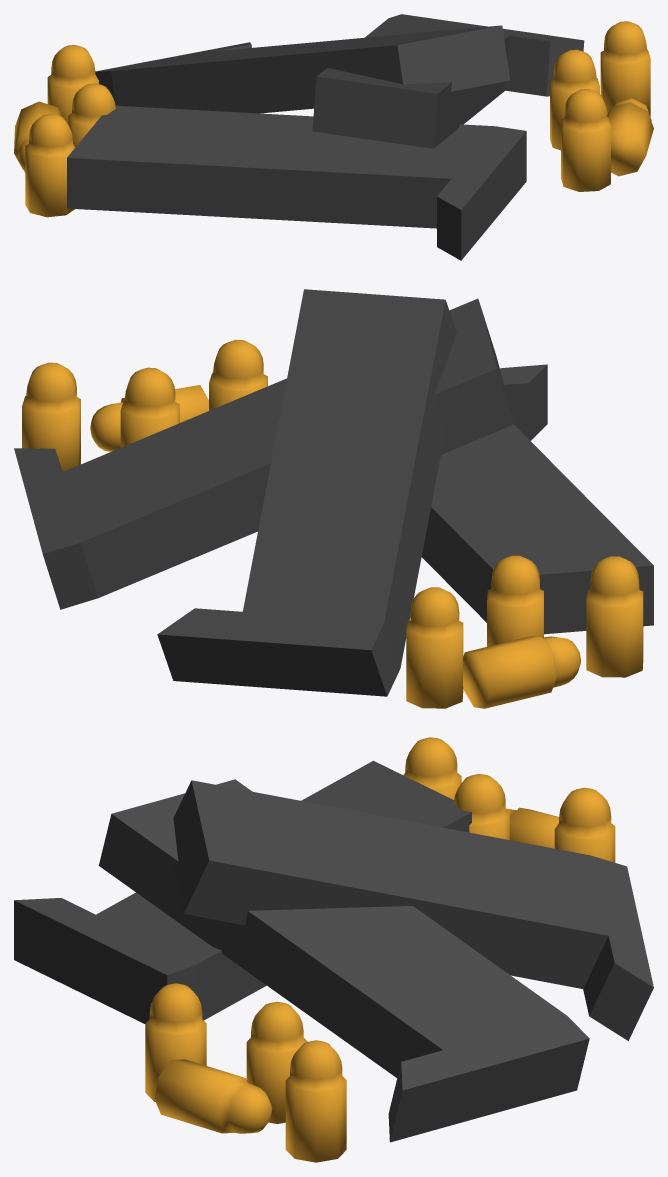
The model's file is PistolAmmo.fbx.
The picture shows the model from 3 angles, top to bottom: view 1: azimuth 30°, elevation 25°; view 2: azimuth 150°, elevation 25°; view 3: azimuth 270°, elevation 25°; orthographic projection. The views are drawn at different scales.
Visible parts, largest first — view 1: Cube.050, Cube.049, Cube.051, Cylinder.091, Cylinder.096, Cylinder.092, Cylinder.093, Cylinder.090, Cylinder.095, Cylinder.094, Cylinder.097; view 2: Cube.049, Cube.051, Cube.050, Cylinder.097, Cylinder.096, Cylinder.095, Cylinder.092, Cylinder.094, Cylinder.090, Cylinder.091, Cylinder.093; view 3: Cube.049, Cube.051, Cube.050, Cylinder.092, Cylinder.093, Cylinder.091, Cylinder.090, Cylinder.095, Cylinder.094, Cylinder.096, Cylinder.097.
Part boxes in pixels (x1,y1,x2,y2): Cube.050: (67, 105, 526, 260); Cube.049: (95, 25, 510, 113); Cube.051: (312, 14, 584, 148); Cylinder.091: (561, 89, 610, 191); Cylinder.096: (25, 114, 75, 217); Cylinder.092: (600, 21, 650, 116); Cylinder.093: (607, 98, 653, 176); Cylinder.090: (550, 49, 599, 150); Cylinder.095: (47, 45, 98, 124); Cylinder.094: (68, 83, 115, 146); Cylinder.097: (14, 101, 62, 172); Cube.049: (157, 289, 456, 696); Cube.051: (14, 298, 514, 609); Cube.050: (421, 364, 653, 634); Cylinder.097: (463, 636, 580, 708); Cylinder.096: (586, 556, 643, 677); Cylinder.095: (406, 587, 463, 708); Cylinder.092: (22, 362, 80, 471); Cylinder.094: (487, 555, 543, 646); Cylinder.090: (120, 367, 179, 447); Cylinder.091: (209, 339, 267, 410); Cylinder.093: (90, 385, 208, 451); Cube.049: (173, 780, 653, 1040); Cube.051: (98, 779, 589, 1142); Cube.050: (14, 760, 471, 1023); Cylinder.092: (285, 1040, 346, 1162); Cylinder.093: (154, 1059, 272, 1133); Cylinder.091: (145, 983, 206, 1101); Cylinder.090: (246, 1001, 307, 1123); Cylinder.095: (554, 787, 615, 862); Cylinder.094: (453, 774, 509, 839); Cylinder.096: (403, 737, 461, 799); Cylinder.097: (505, 807, 558, 848).
Bounding box in the file's own units: 1143 × 380 × 940.
